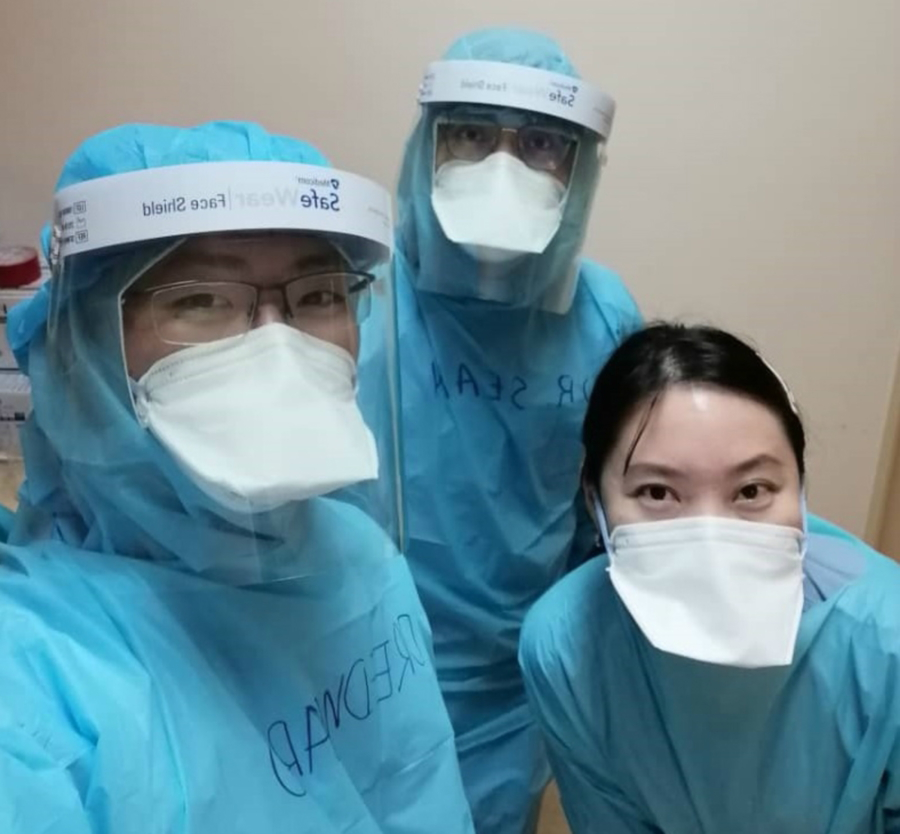Coverall: (1, 121, 474, 834), (394, 30, 622, 563), (518, 547, 897, 832)
Face_Shield: (49, 163, 411, 570), (413, 60, 616, 316)
with_mask: (121, 279, 381, 516), (605, 463, 803, 670), (430, 113, 578, 264)
